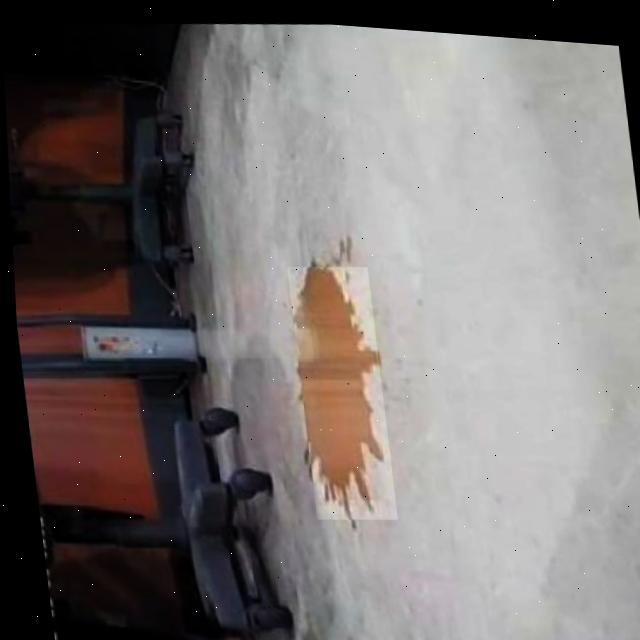spillage: (293, 260, 380, 512)
